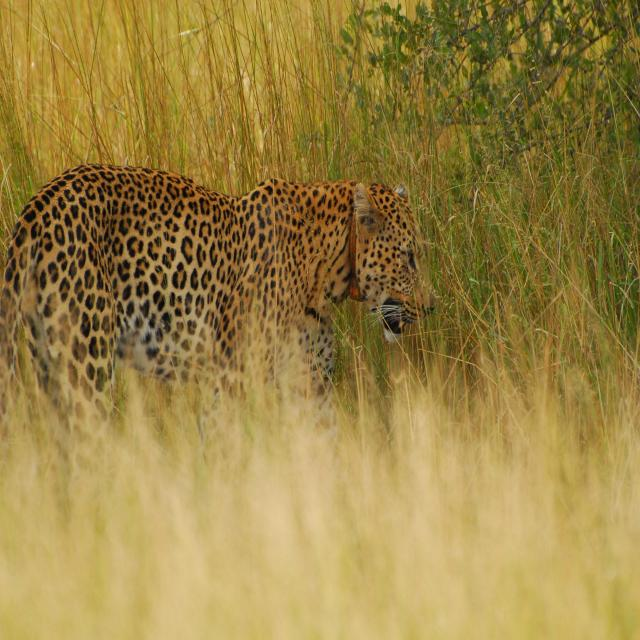Leopard: (1, 156, 443, 468)
